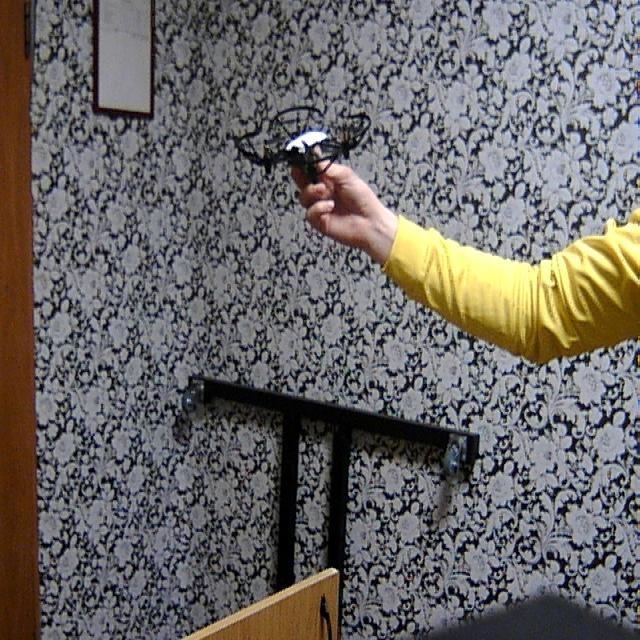drone: (230, 81, 380, 183)
